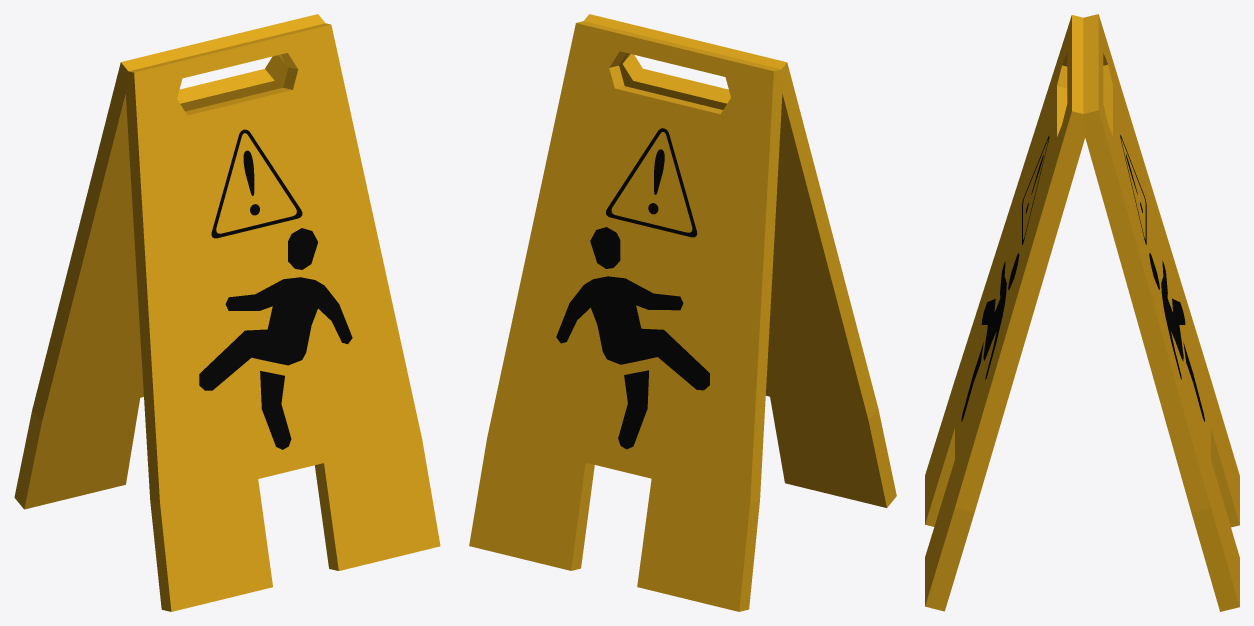
The model's file is WetFloorSign_Open.fbx.
3 views of the same model, side by side, from view 1: azimuth 30°, elevation 25°; view 2: azimuth 150°, elevation 25°; view 3: azimuth 270°, elevation 25° (orthographic).
Visible parts, largest first — view 1: WetFloorSign_Open; view 2: WetFloorSign_Open; view 3: WetFloorSign_Open.
Boxes of the visible parts, x1=… form: WetFloorSign_Open: x1=14, y1=14, x2=440, y2=611; WetFloorSign_Open: x1=469, y1=14, x2=896, y2=611; WetFloorSign_Open: x1=925, y1=14, x2=1239, y2=611.
Bounding box in the file's own units: 50.66 × 86.89 × 51.21.
